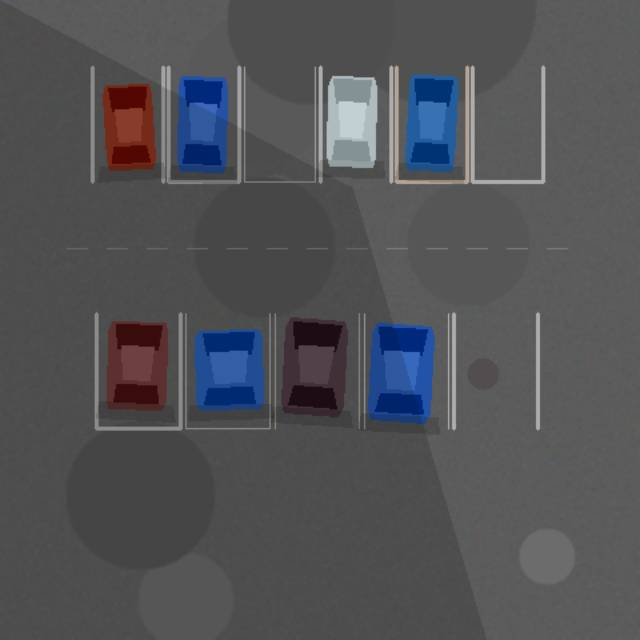space-empty: (453, 313, 537, 428), (244, 67, 315, 181), (472, 67, 543, 181)
space-occupied: (96, 313, 180, 428), (185, 313, 269, 428), (275, 313, 359, 428), (364, 313, 448, 428), (92, 67, 163, 181), (168, 67, 239, 181), (320, 67, 391, 181), (396, 67, 467, 181)
